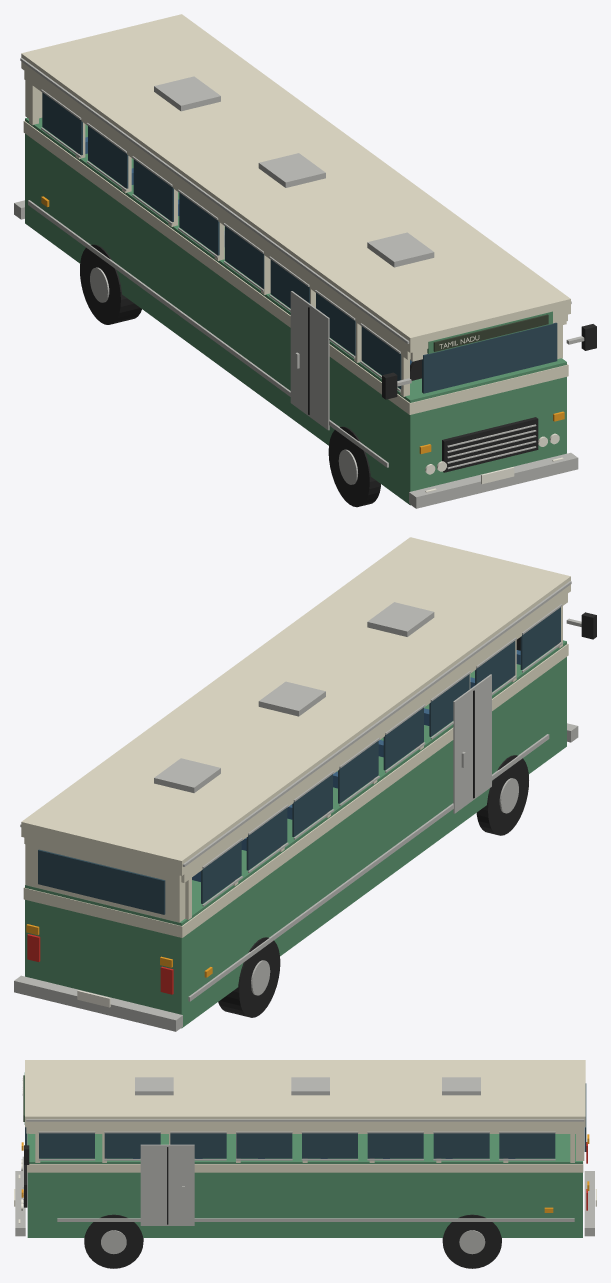
Rendered from TN_Bus.glb.
3 views of the same model, one above another, from view 1: azimuth 30°, elevation 25°; view 2: azimuth 150°, elevation 25°; view 3: azimuth 270°, elevation 25° (orthographic). The views are drawn at different scales.
Parts seen in each view (by area): view 1: Roof, Green lower shell, Cream waist band, Front windscreen, Entry door outline -1, Front bumper, Upper roof rail -1, Front grille, Side skirt trim -1, Tyre -1 3.1 0, Tyre -1 -3.55 0, Rain gutter -1 (+12 smaller); view 2: Roof, Green lower shell, Cream waist band, Rear window, Entry door outline -1, Rear upper fascia, Rear bumper, Upper roof rail -1, Side skirt trim -1, Tyre -1 3.1 0, Tyre -1 -3.55 0, Rain gutter -1 (+11 smaller); view 3: Roof, Green lower shell, Cream waist band, Entry door outline 1, Upper roof rail 1, Tyre 1 -3.55 0, Tyre 1 3.1 0, Side skirt trim 1, Rain gutter 1, Side glass 1 3, Side glass 1 5, Side glass 1 6 (+12 smaller).
Boxes of the visible parts, x1=… form: Roof: x1=21, y1=14, x2=570, y2=352; Green lower shell: x1=25, y1=117, x2=566, y2=505; Cream waist band: x1=23, y1=120, x2=568, y2=414; Front windscreen: x1=422, y1=322, x2=557, y2=393; Entry door outline -1: x1=290, y1=291, x2=329, y2=430; Front bumper: x1=409, y1=452, x2=578, y2=508; Upper roof rail -1: x1=24, y1=71, x2=410, y2=359; Front grille: x1=442, y1=417, x2=538, y2=472; Side skirt trim -1: x1=28, y1=200, x2=388, y2=467; Tyre -1 3.1 0: x1=80, y1=244, x2=132, y2=324; Tyre -1 -3.55 0: x1=328, y1=426, x2=380, y2=507; Rain gutter -1: x1=20, y1=58, x2=409, y2=343; Roof: x1=21, y1=537, x2=570, y2=875; Green lower shell: x1=25, y1=640, x2=566, y2=1028; Cream waist band: x1=23, y1=643, x2=568, y2=937; Rear window: x1=38, y1=849, x2=165, y2=914; Entry door outline -1: x1=453, y1=674, x2=491, y2=813; Rear upper fascia: x1=25, y1=838, x2=185, y2=922; Rear bumper: x1=14, y1=975, x2=182, y2=1031; Upper roof rail -1: x1=181, y1=593, x2=567, y2=882; Side skirt trim -1: x1=188, y1=734, x2=549, y2=1001; Tyre -1 3.1 0: x1=228, y1=937, x2=280, y2=1017; Tyre -1 -3.55 0: x1=476, y1=755, x2=528, y2=835; Rain gutter -1: x1=182, y1=581, x2=571, y2=866; Roof: x1=25, y1=1060, x2=585, y2=1127; Green lower shell: x1=27, y1=1133, x2=582, y2=1237; Cream waist band: x1=27, y1=1134, x2=583, y2=1172; Entry door outline 1: x1=140, y1=1144, x2=194, y2=1225; Upper roof rail 1: x1=29, y1=1127, x2=581, y2=1133; Tyre 1 -3.55 0: x1=84, y1=1214, x2=143, y2=1268; Tyre 1 3.1 0: x1=442, y1=1214, x2=501, y2=1268; Side skirt trim 1: x1=57, y1=1218, x2=574, y2=1221; Rain gutter 1: x1=26, y1=1119, x2=584, y2=1121; Side glass 1 3: x1=236, y1=1133, x2=292, y2=1158; Side glass 1 5: x1=367, y1=1133, x2=423, y2=1158; Side glass 1 6: x1=433, y1=1133, x2=489, y2=1158.
Bounding box in the file's own units: 3.26 × 3.2 × 10.81.
